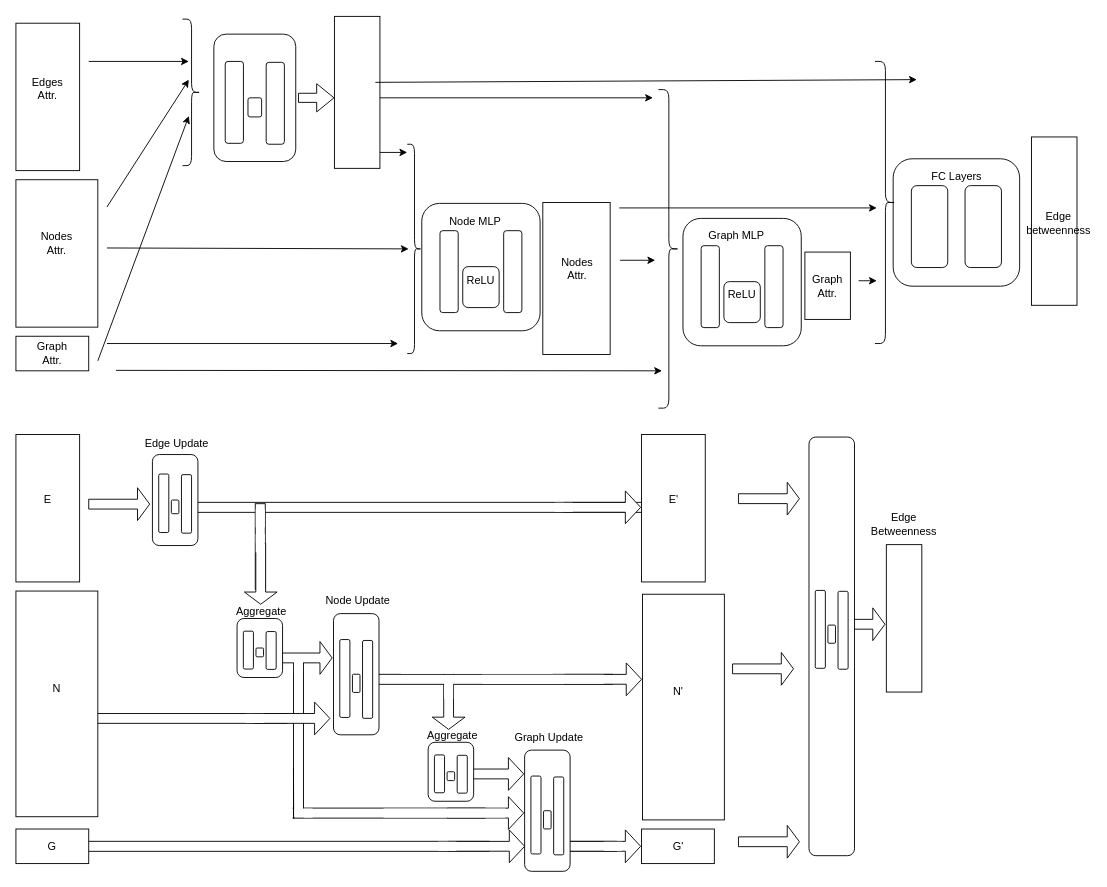
Image size: 1107x887. Some labels were removed from this diagram. Each missing label, with the box of its shape:
Fully Connected: (808, 436, 854, 856)
New Edge State: (334, 15, 380, 168)
